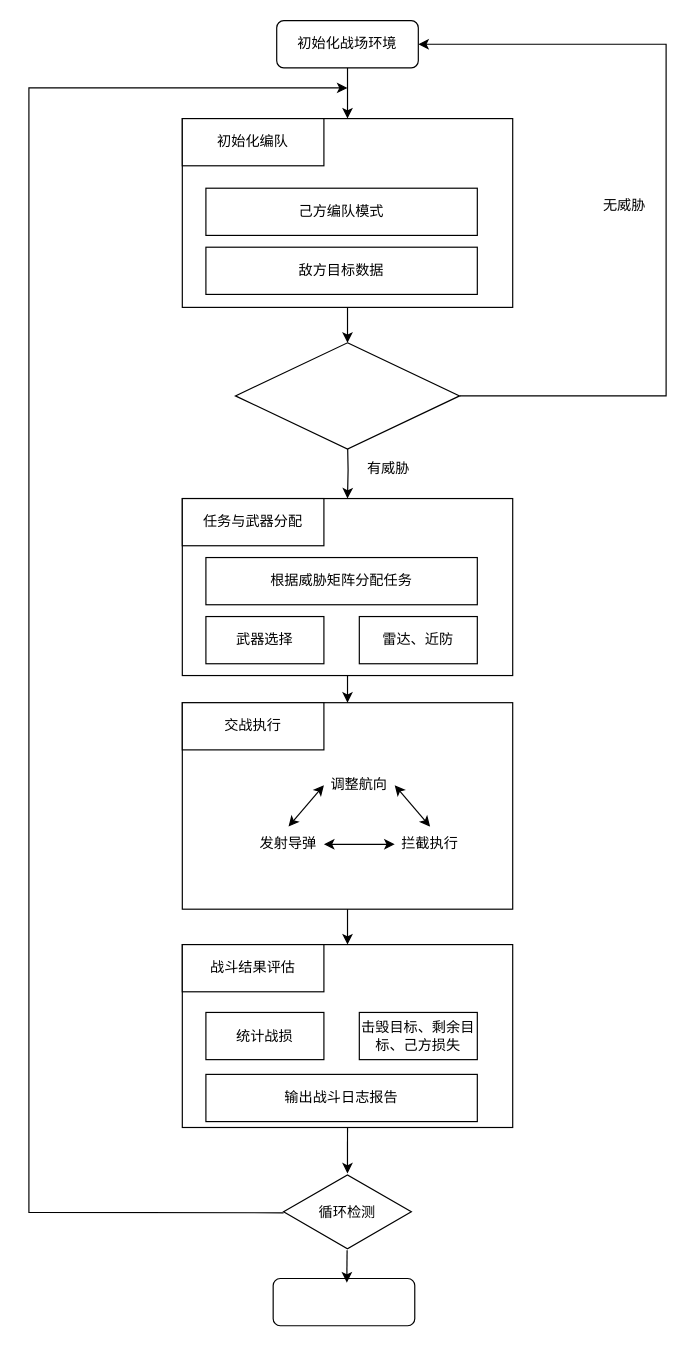
Image size: 696x1346. Some labels were removed from this diagram. The shapes that lost their labels are listed below. From the top down, each one's box as (x1, y1, x2, y2) in pixels, then its label:
(234, 342, 460, 449): 目标威胁分析 （位置、速度、威胁等级）
(272, 1277, 415, 1326): 结束
